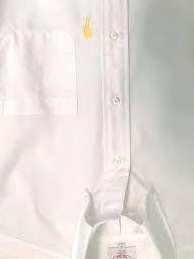mustard: (83, 19, 97, 43)
